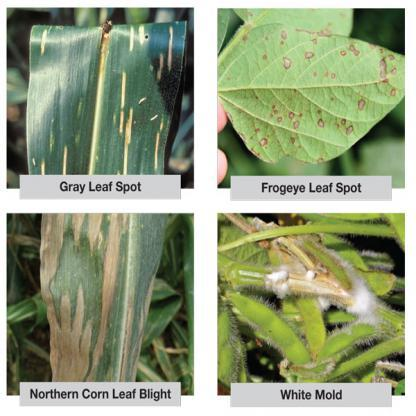Corn Gray leaf spot: (20, 14, 192, 175)
